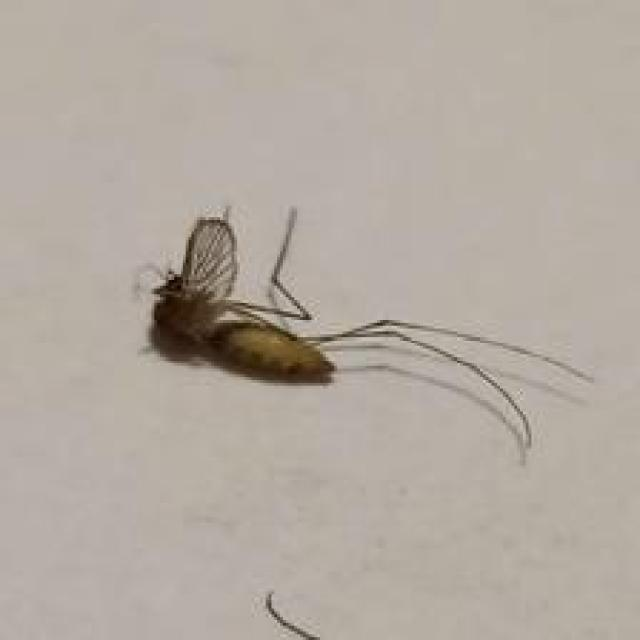Culex: (141, 203, 596, 466)
